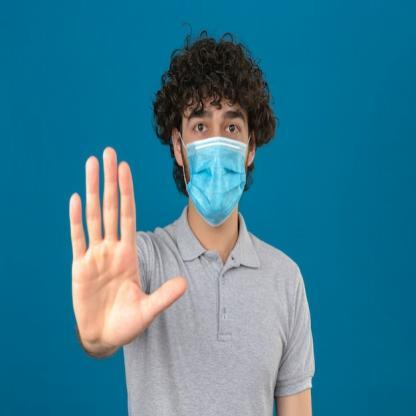stop: (68, 142, 190, 361)
